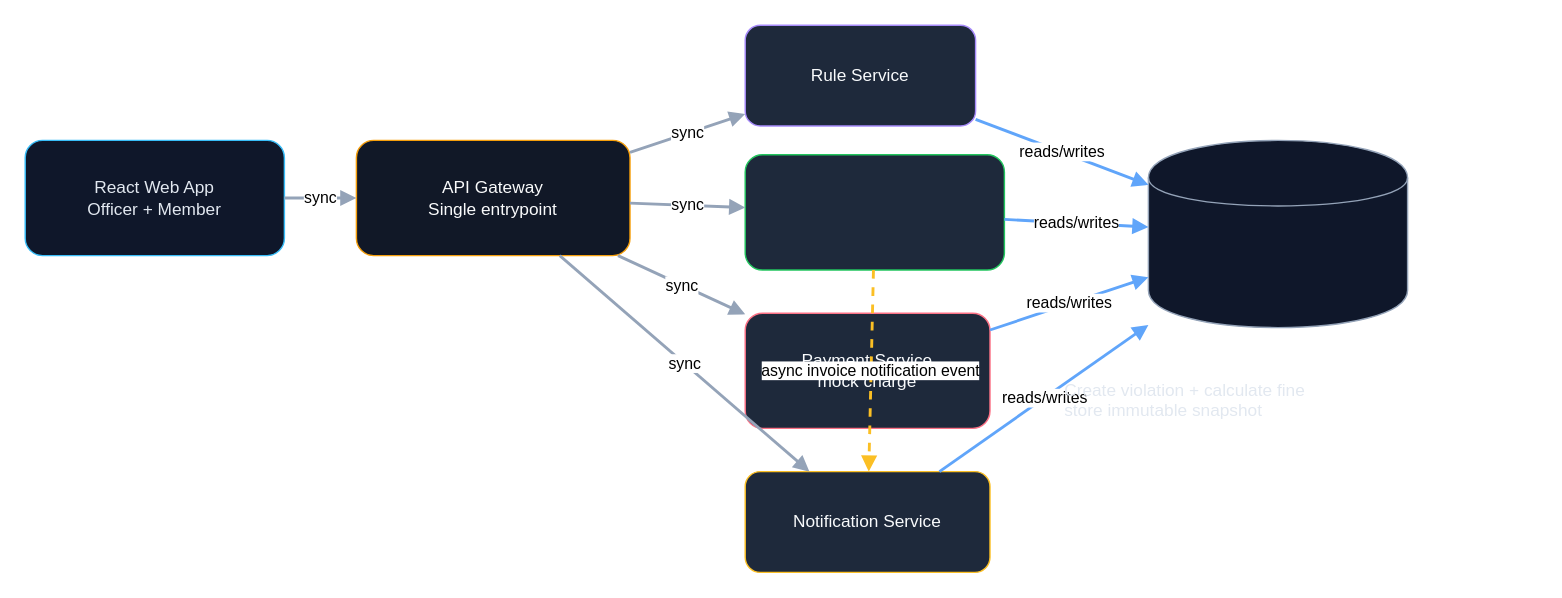
The diagram is 1562 pixels wide and 598 high, and some of its shapes have lost their labels. Each missing label, with the centre of its shape:
PostgreSQL: point (1277, 233)
Violation Service fine calculation + snapshot: point (874, 211)
